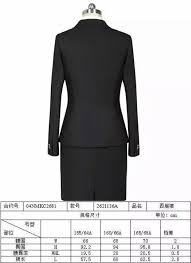F_tailored skirt: (57, 139, 131, 202)
S_business casual jacket: (43, 17, 149, 162)
